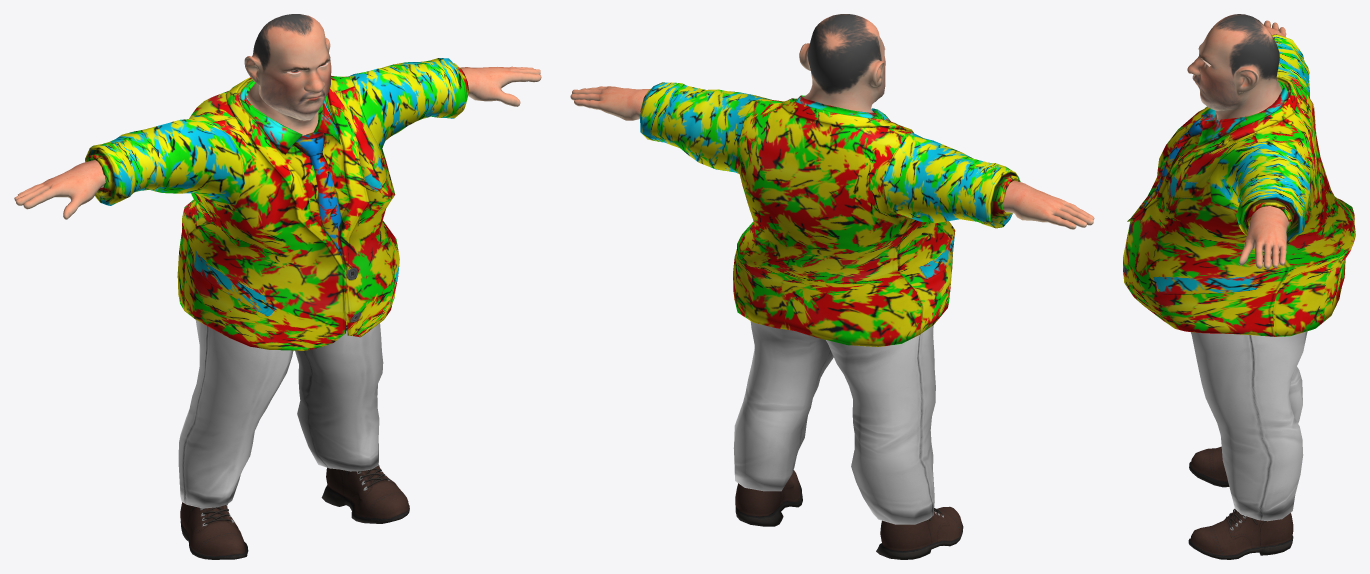
Rendered from Hungry Jac.obj.
The picture shows the model from 3 angles, left to right: view 1: azimuth 30°, elevation 25°; view 2: azimuth 150°, elevation 25°; view 3: azimuth 270°, elevation 25°; orthographic projection. The views are drawn at different scales.
Parts seen in each view (by area): view 1: Tops, Bottoms, Body, Shoes; view 2: Tops, Bottoms, Body, Shoes; view 3: Tops, Bottoms, Body, Shoes.
Boxes of the visible parts, x1,y1,x2,y2 form: Tops: (85, 58, 468, 350); Bottoms: (178, 319, 383, 508); Body: (14, 14, 541, 318); Shoes: (180, 465, 409, 559); Tops: (640, 82, 1020, 346); Bottoms: (733, 321, 935, 524); Body: (570, 14, 1094, 229); Shoes: (735, 470, 963, 559); Tops: (1123, 34, 1355, 336); Bottoms: (1190, 331, 1307, 521); Body: (1187, 14, 1288, 269); Shoes: (1188, 446, 1293, 559).
Size of the model in its own units: 154 by 143 by 61.24.
4 materials, 4 textured.
